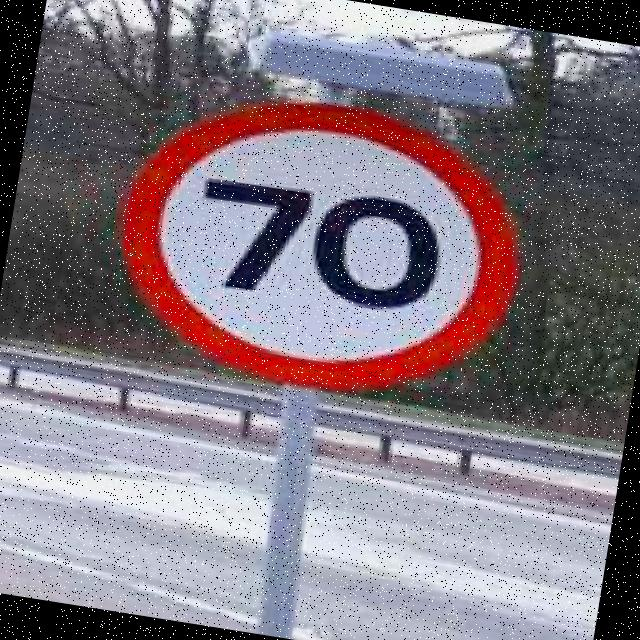Ograniczenie predkosci do 70: (120, 94, 544, 397)
